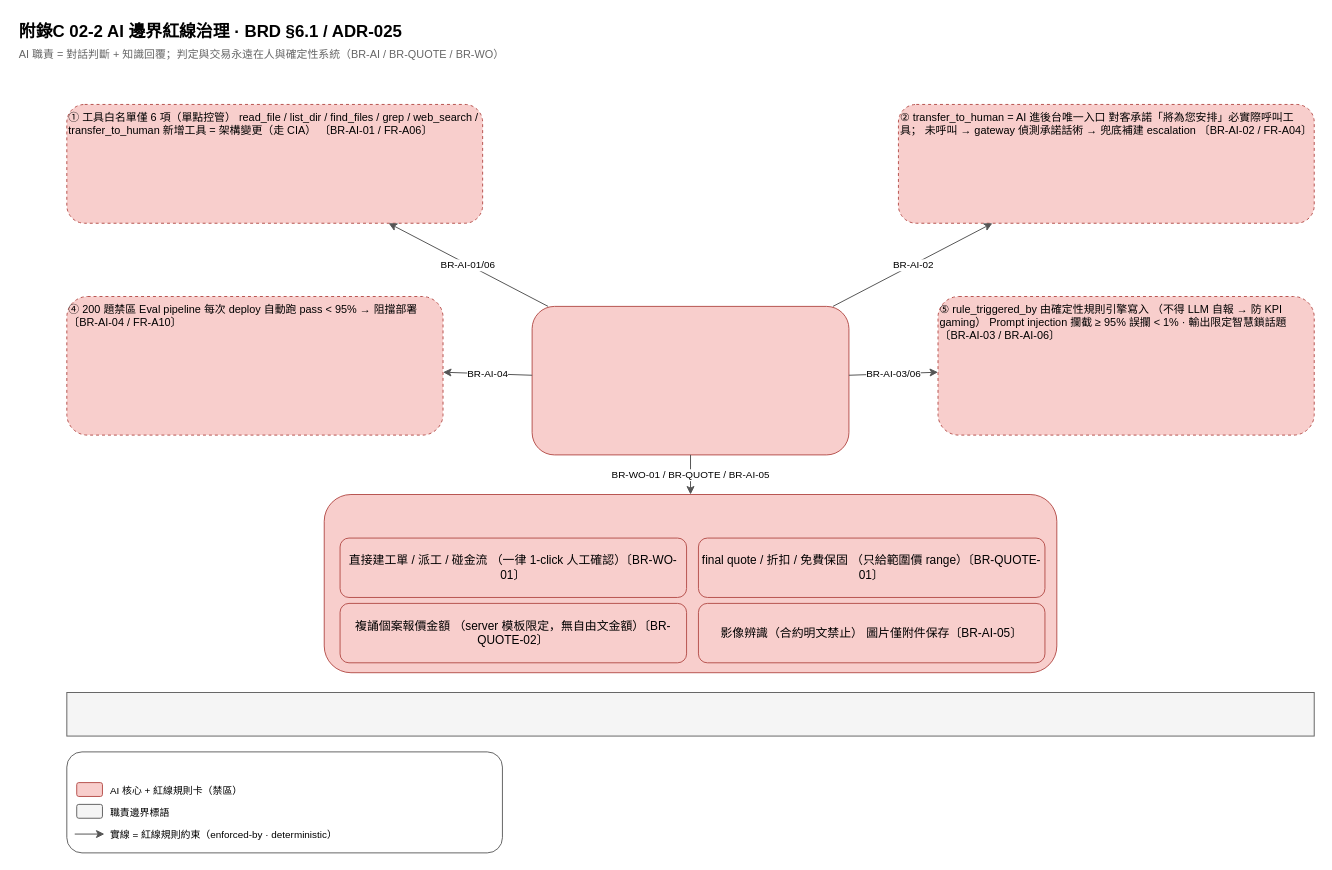
Some shapes in this 1332 by 870 pixel diagram are drawn without their labels. The box of each missing label's shape, as (x1, y1, x2, y2) in pixels:
AI 客服 （LockCore agent）: (531, 305, 849, 455)
AI 職責僅限對話判斷與知識回覆——判定與交易永遠在人與確定性系統（BR-AI-01）: (66, 692, 1314, 736)
③ AI 永不（交易 / 判定紅線）: (323, 494, 1057, 673)
圖例 Legend: (66, 751, 502, 853)
